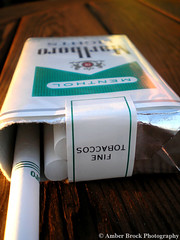cigarette: (1, 33, 179, 183), (0, 124, 41, 240), (44, 123, 68, 181), (54, 123, 66, 159)
